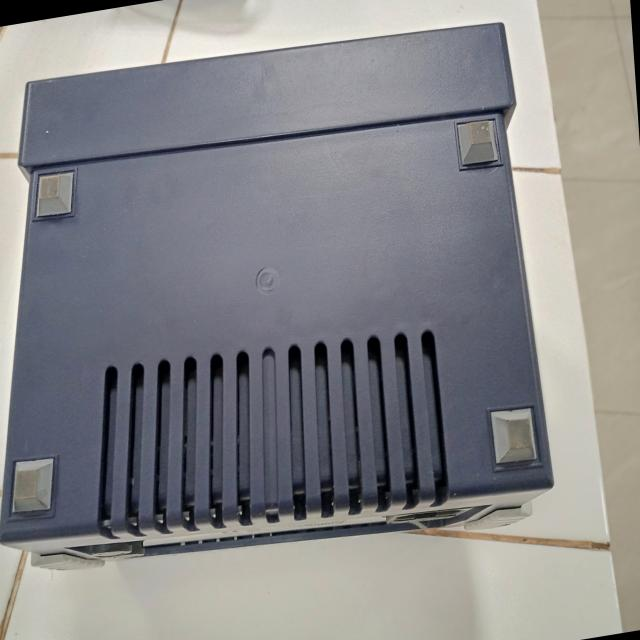Cobra 4 Xpert link Power Supply: (0, 0, 565, 610)
